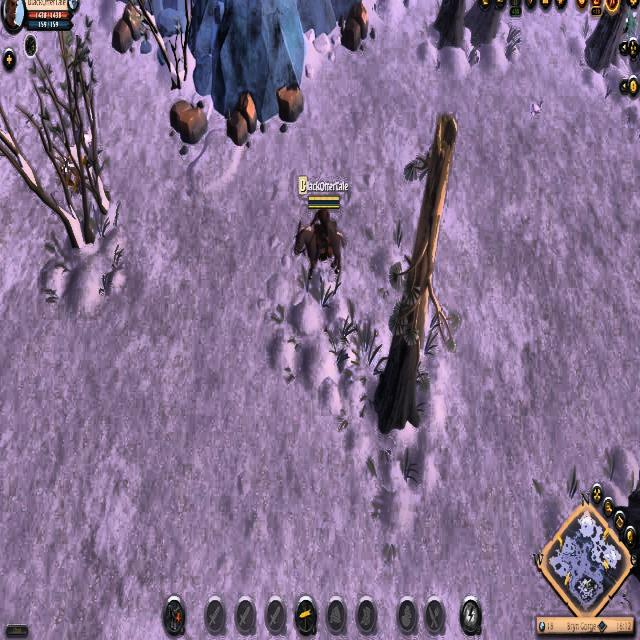limestone: (110, 1, 145, 54), (169, 97, 208, 143), (227, 91, 258, 146), (338, 1, 369, 52), (274, 82, 306, 124)
